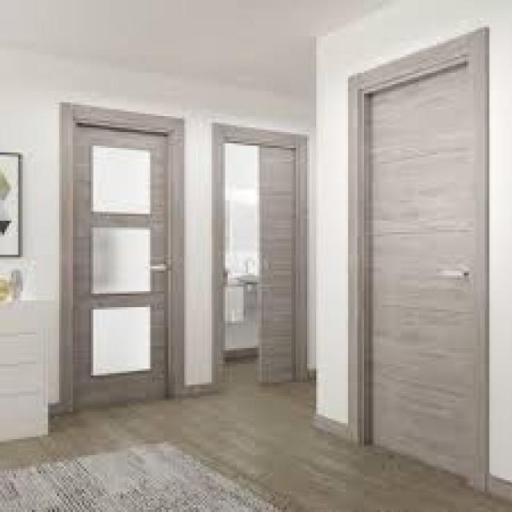door: (348, 26, 492, 493)
